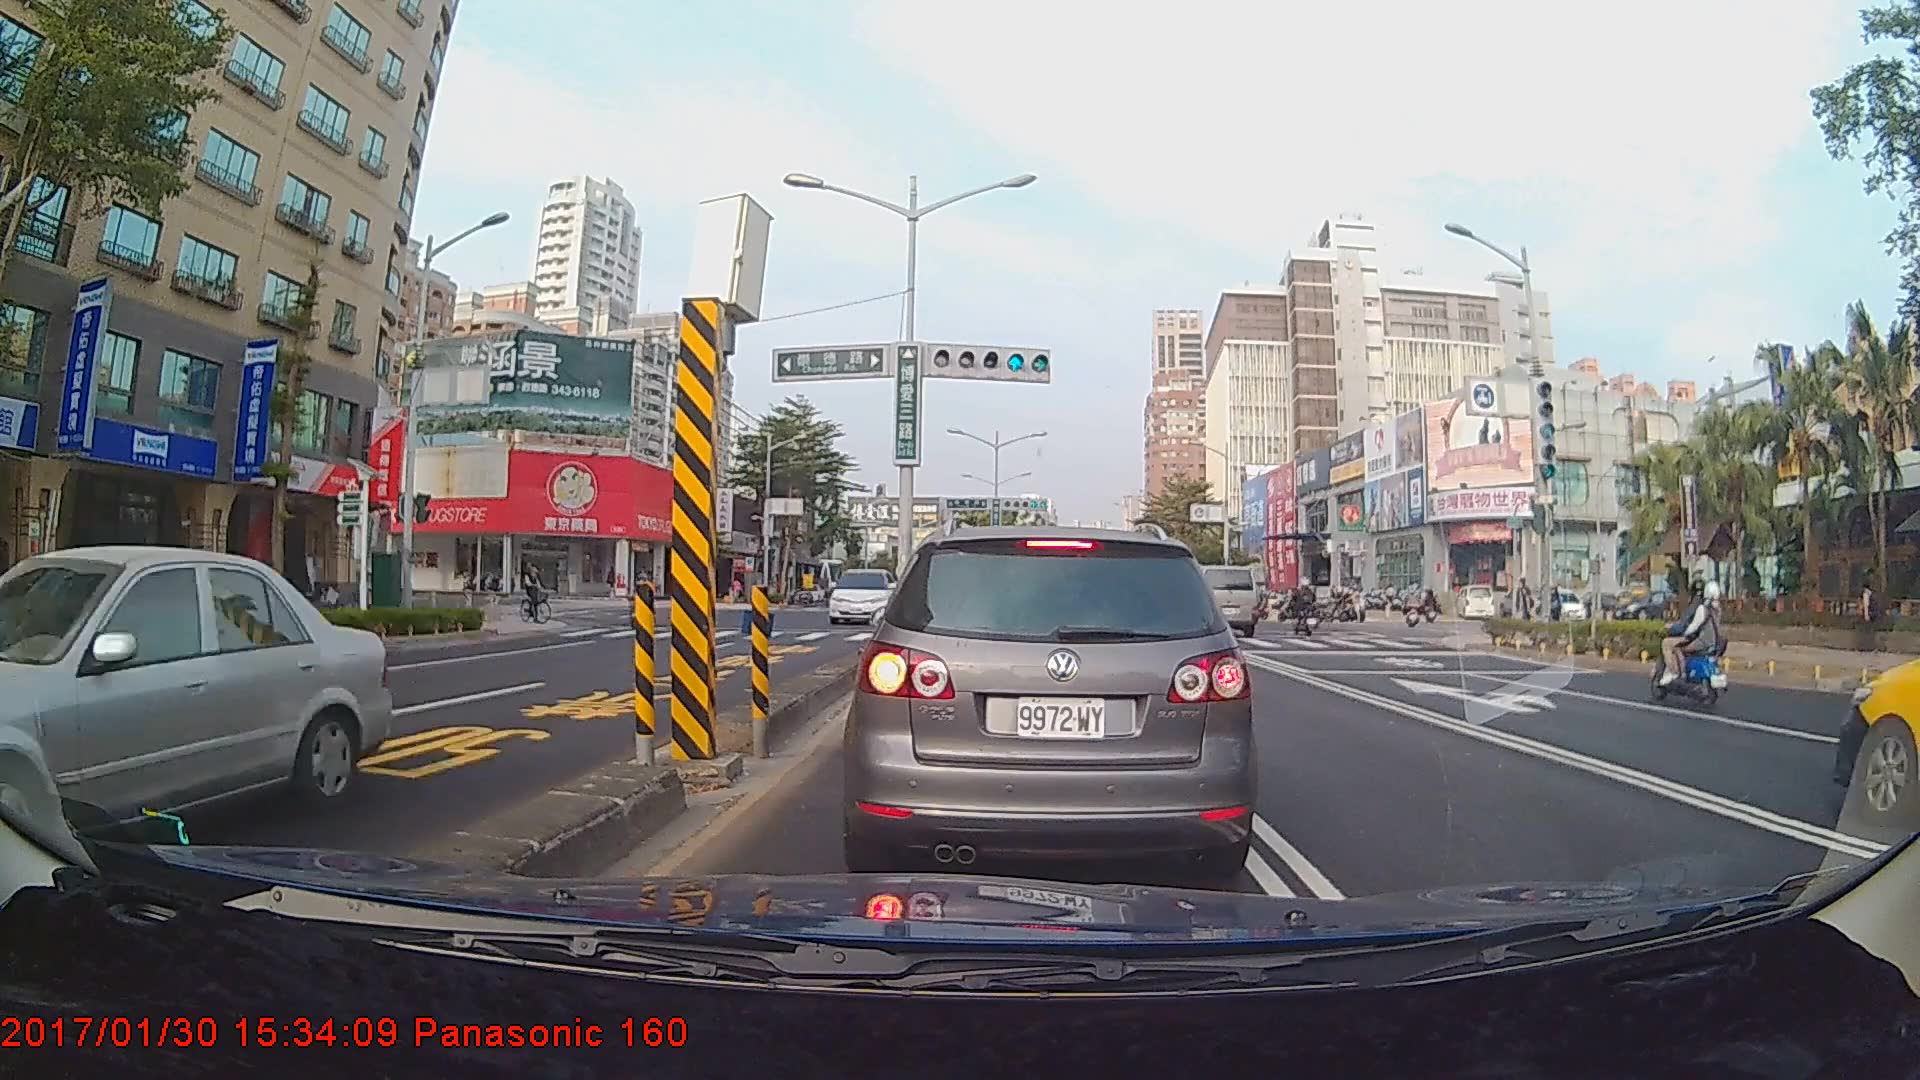pedestrian: (1853, 580, 1880, 654)
rider: (1642, 571, 1741, 720), (518, 559, 561, 629), (1289, 580, 1327, 638), (1398, 582, 1422, 633)
vehicle: (852, 518, 1254, 879), (0, 542, 393, 882), (1830, 578, 1920, 823), (1155, 562, 1259, 637), (826, 566, 903, 626)
